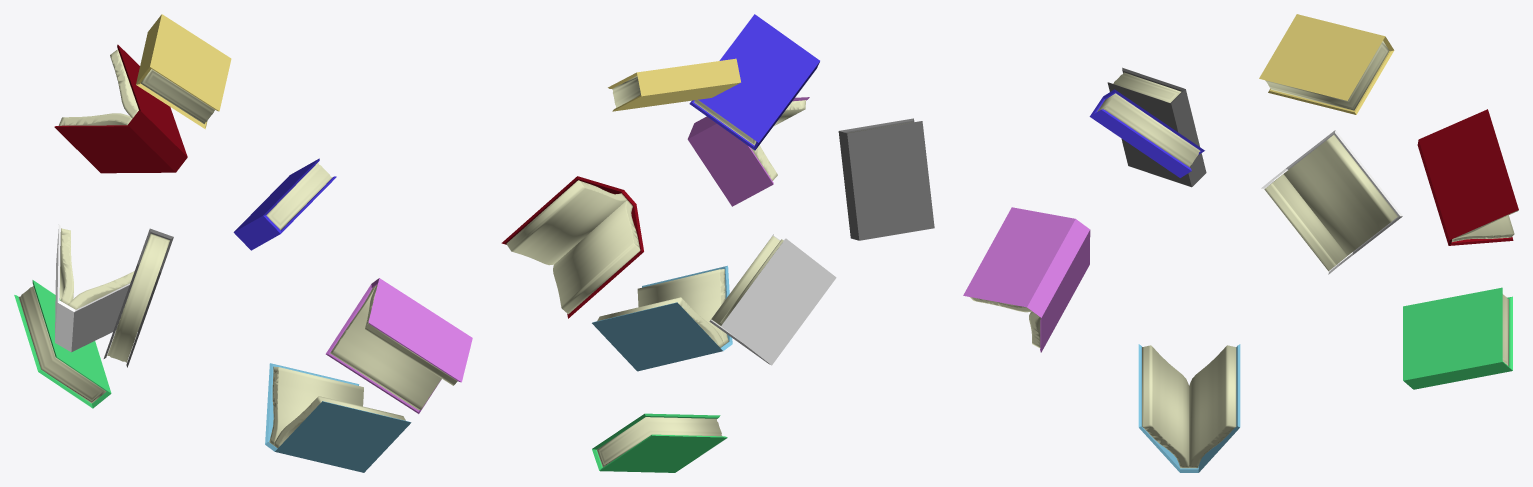
File: books.glb
The picture shows the model from 3 angles, left to right: view 1: azimuth 30°, elevation 25°; view 2: azimuth 150°, elevation 25°; view 3: azimuth 270°, elevation 25°; orthographic projection. The views are drawn at different scales.
Parts seen in each view (by area): view 1: Open Cover.003, Open Cover.002, Open Cover, Open Pages, Closed Cover.003, Open Pages.002, Open Cover.001, Closed Cover.001, Closed Pages, Closed Pages.001, Closed Cover.002, Open Pages.001 (+4 smaller); view 2: Open Pages.003, Closed Cover, Closed Cover.002, Open Cover.001, Open Cover.002, Open Cover, Closed Cover.003, Closed Cover.001, Open Pages.002, Closed Pages.001, Open Cover.003, Open Pages.001 (+2 smaller); view 3: Open Cover, Open Pages.001, Closed Cover.001, Open Cover.003, Open Pages.002, Closed Cover.003, Closed Cover, Closed Pages.002, Closed Cover.002, Closed Pages.003, Open Cover.002, Open Cover.001 (+3 smaller).
Part boxes in pixels (x1=…): Open Cover.003: x1=54, y1=44, x2=187, y2=173; Open Cover.002: x1=265, y1=363, x2=411, y2=472; Open Cover: x1=325, y1=278, x2=472, y2=413; Open Pages: x1=330, y1=284, x2=457, y2=410; Closed Cover.003: x1=136, y1=14, x2=231, y2=129; Open Pages.002: x1=269, y1=366, x2=405, y2=448; Open Cover.001: x1=55, y1=224, x2=130, y2=352; Closed Cover.001: x1=14, y1=280, x2=111, y2=408; Closed Pages: x1=107, y1=233, x2=169, y2=362; Closed Pages.001: x1=18, y1=286, x2=106, y2=403; Closed Cover.002: x1=233, y1=158, x2=336, y2=250; Open Pages.001: x1=59, y1=228, x2=134, y2=309; Open Pages.003: x1=506, y1=180, x2=640, y2=314; Closed Cover: x1=838, y1=118, x2=934, y2=240; Closed Cover.002: x1=689, y1=14, x2=819, y2=150; Open Cover.001: x1=709, y1=234, x2=836, y2=365; Open Cover.002: x1=592, y1=265, x2=732, y2=371; Open Cover: x1=687, y1=97, x2=809, y2=206; Closed Cover.003: x1=608, y1=58, x2=740, y2=111; Closed Cover.001: x1=592, y1=413, x2=727, y2=472; Open Pages.002: x1=597, y1=269, x2=728, y2=347; Closed Pages.001: x1=597, y1=417, x2=722, y2=467; Open Cover.003: x1=501, y1=176, x2=643, y2=318; Open Pages.001: x1=711, y1=236, x2=783, y2=325; Open Cover: x1=963, y1=207, x2=1090, y2=352; Open Pages.001: x1=1264, y1=135, x2=1397, y2=270; Closed Cover.001: x1=1403, y1=287, x2=1512, y2=389; Open Cover.003: x1=1417, y1=109, x2=1518, y2=245; Open Pages.002: x1=1142, y1=345, x2=1236, y2=468; Closed Cover.003: x1=1259, y1=14, x2=1394, y2=114; Closed Cover: x1=1107, y1=67, x2=1206, y2=187; Closed Pages.002: x1=1097, y1=93, x2=1200, y2=167; Closed Cover.002: x1=1089, y1=89, x2=1204, y2=177; Closed Pages.003: x1=1265, y1=41, x2=1389, y2=110; Open Cover.002: x1=1138, y1=344, x2=1240, y2=472; Open Cover.001: x1=1261, y1=130, x2=1402, y2=274.
Bounding box in the file's own units: 6.3 × 7.87 × 10.13.
